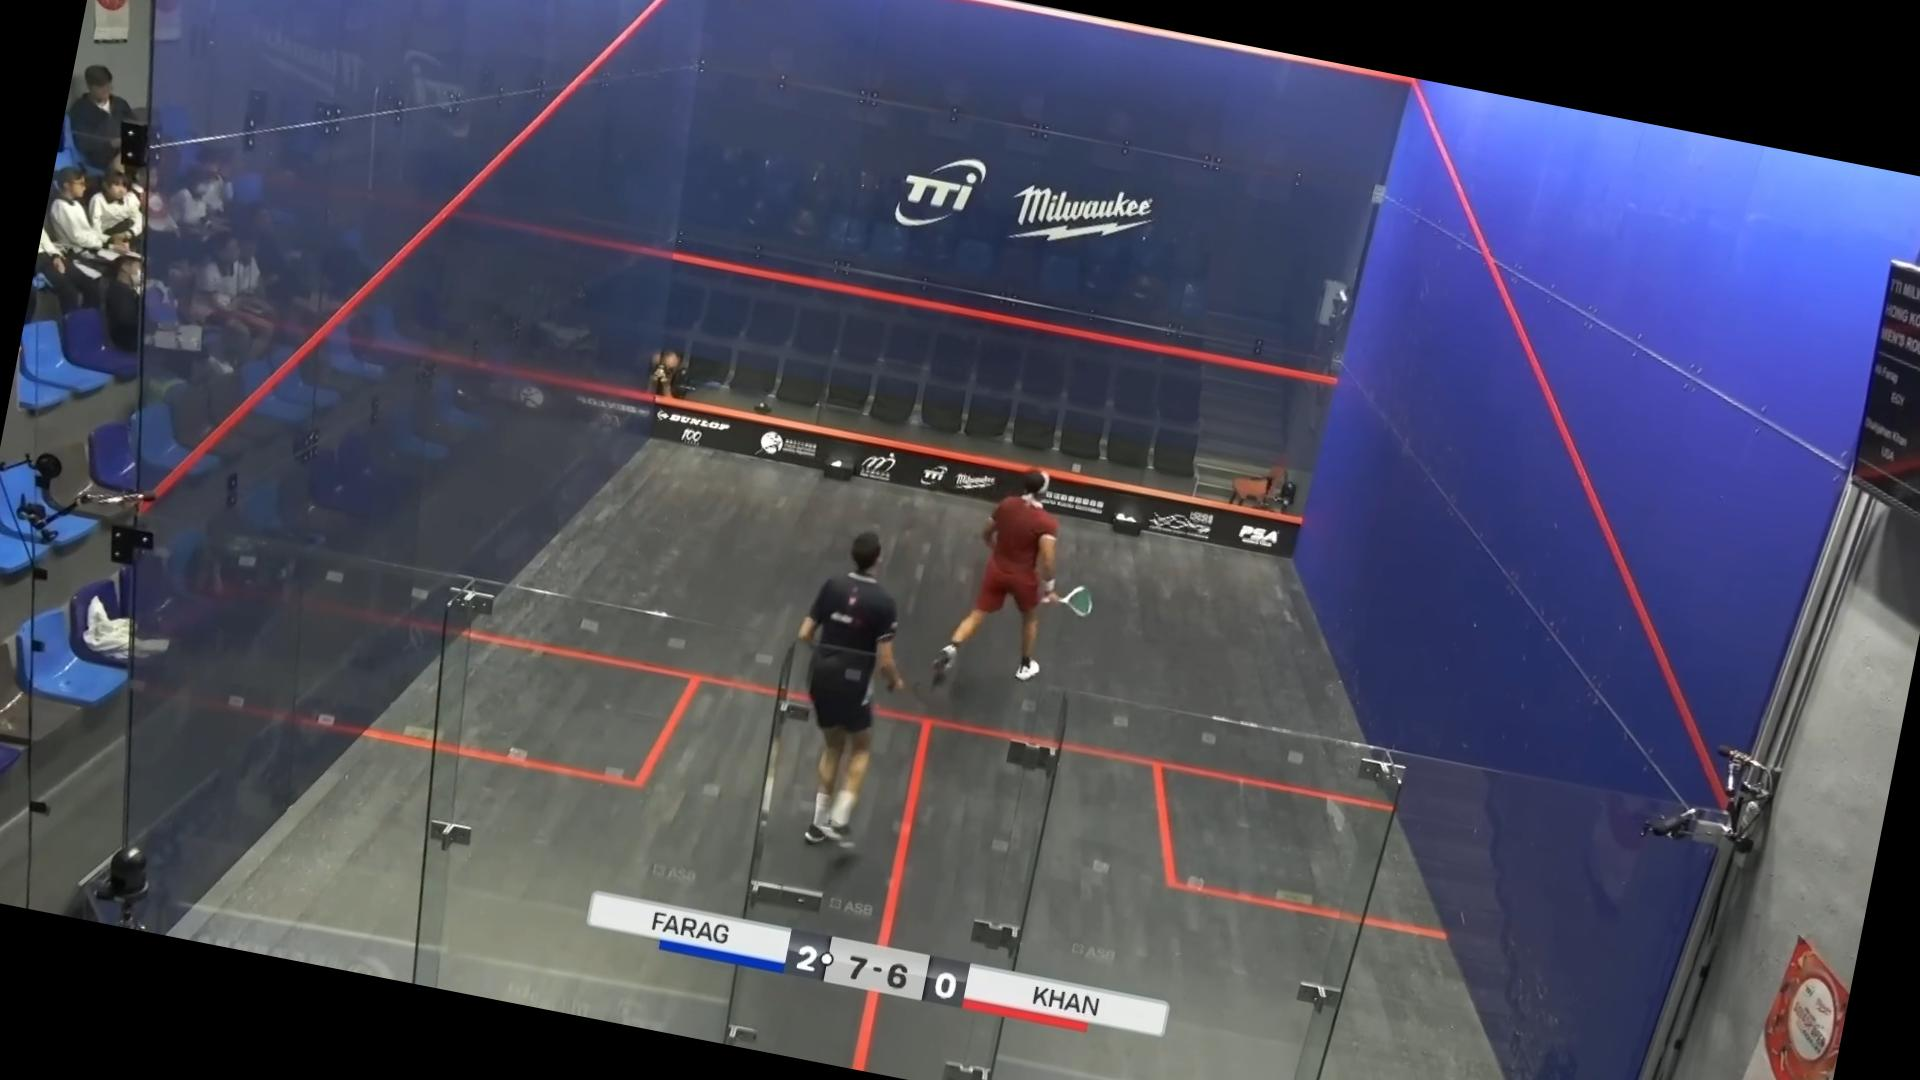Racket: (1047, 578, 1106, 628)
